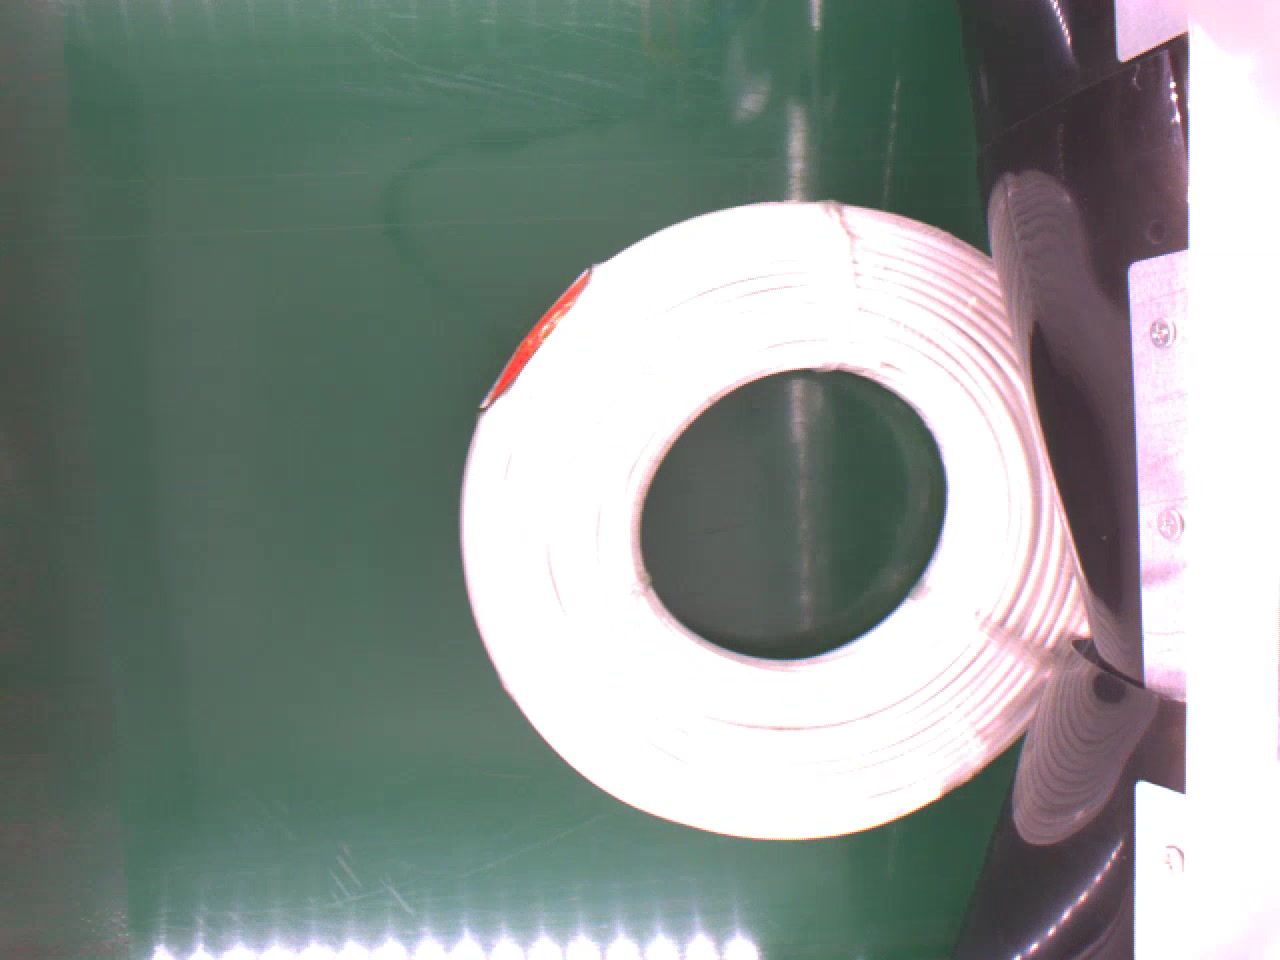white: (463, 197, 1095, 856)
